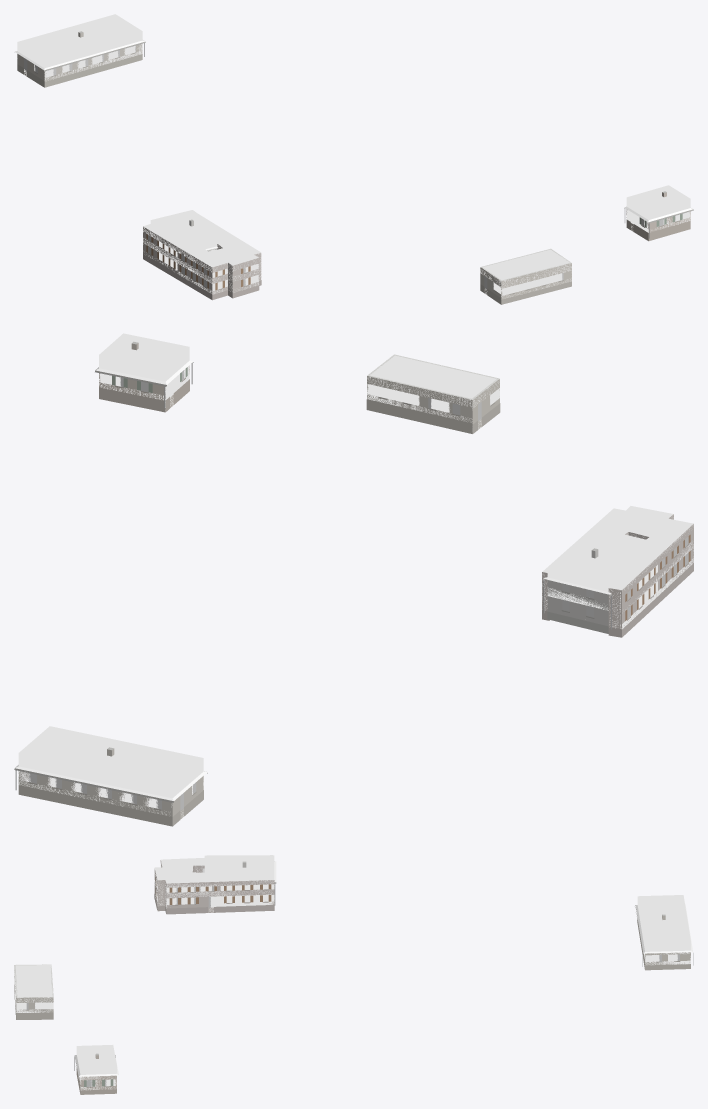
3 views of the same model, one above another, from view 1: azimuth 30°, elevation 25°; view 2: azimuth 150°, elevation 25°; view 3: azimuth 270°, elevation 25° (orthographic). The views are drawn at different scales.
Parts seen in each view (by area): view 1: col, bld; view 2: col, bld; view 3: col, bld.
Part boxes in pixels (left/top/right/bottom): col: left=17, top=14, right=690, bottom=298; bld: left=14, top=31, right=693, bottom=304; col: left=18, top=333, right=693, bottom=817; bld: left=14, top=341, right=693, bottom=826; col: left=14, top=855, right=690, bottom=1090; bld: left=14, top=860, right=693, bottom=1094.
Size of the model in its own units: 86.02 by 8.34 by 120.
